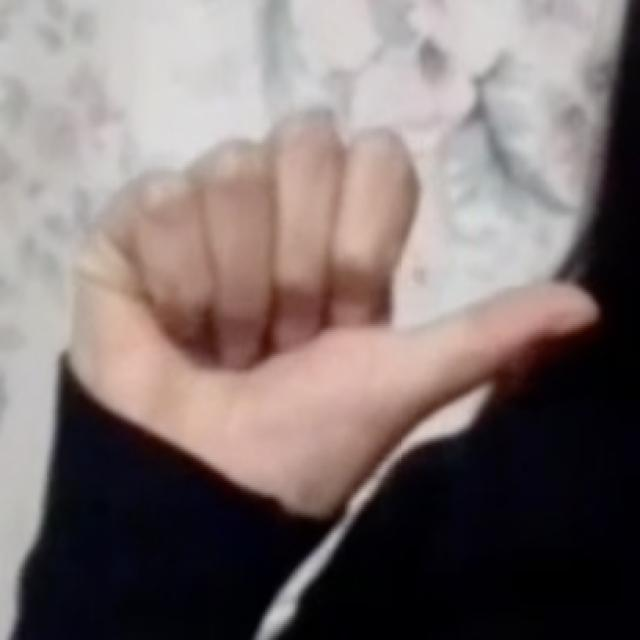A: (55, 86, 607, 507)
